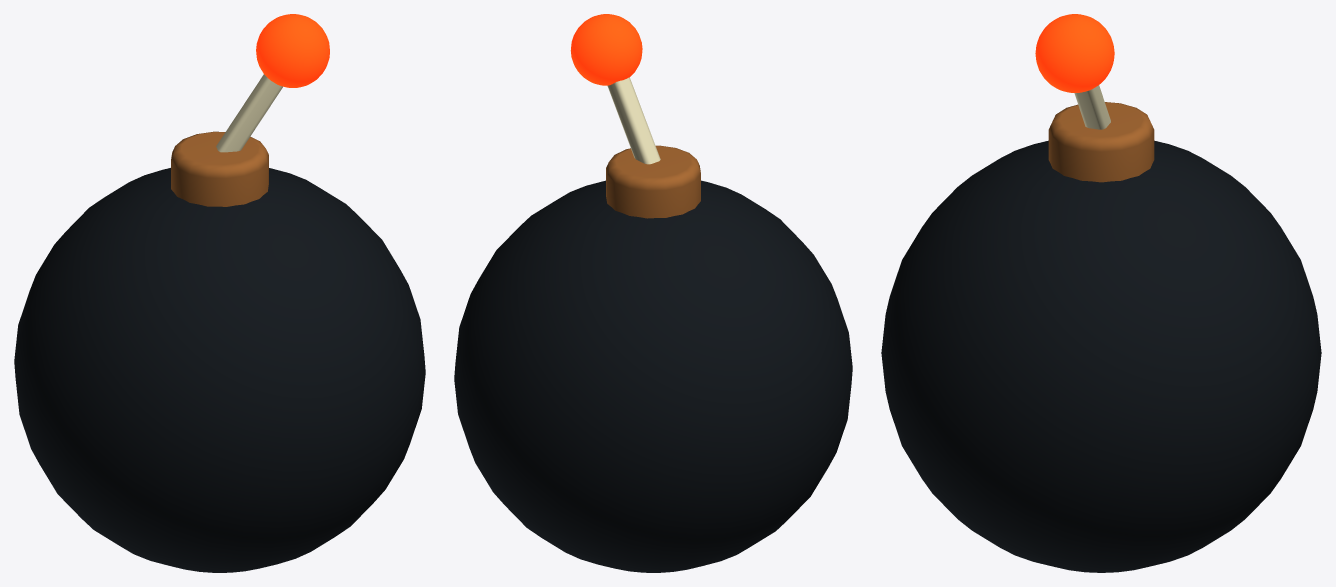
File: Cannon_Normal.fbx
The picture shows the model from 3 angles, left to right: view 1: azimuth 30°, elevation 25°; view 2: azimuth 150°, elevation 25°; view 3: azimuth 270°, elevation 25°; orthographic projection. The views are drawn at different scales.
Parts seen in each view (by area): view 1: Bomb, Fuse socket, Spark, Fuse; view 2: Bomb, Fuse socket, Spark, Fuse; view 3: Bomb, Fuse socket, Spark, Fuse.
Boxes of the visible parts, bbox=[...] form: Bomb: bbox=[14, 168, 425, 572]; Fuse socket: bbox=[171, 131, 268, 206]; Spark: bbox=[256, 14, 329, 87]; Fuse: bbox=[216, 74, 282, 152]; Bomb: bbox=[454, 180, 852, 572]; Fuse socket: bbox=[606, 145, 700, 218]; Spark: bbox=[570, 14, 642, 85]; Fuse: bbox=[607, 77, 660, 164]; Bomb: bbox=[881, 140, 1321, 572]; Fuse socket: bbox=[1048, 102, 1154, 182]; Spark: bbox=[1035, 14, 1114, 92]; Fuse: bbox=[1074, 85, 1110, 129].
Size of the model in its own units: 100 by 142 by 100.
